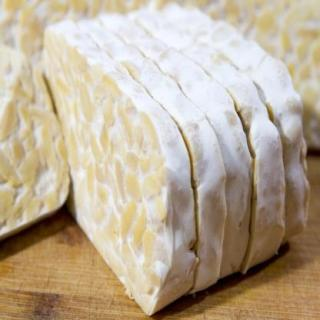Tempe: (41, 7, 313, 318)
